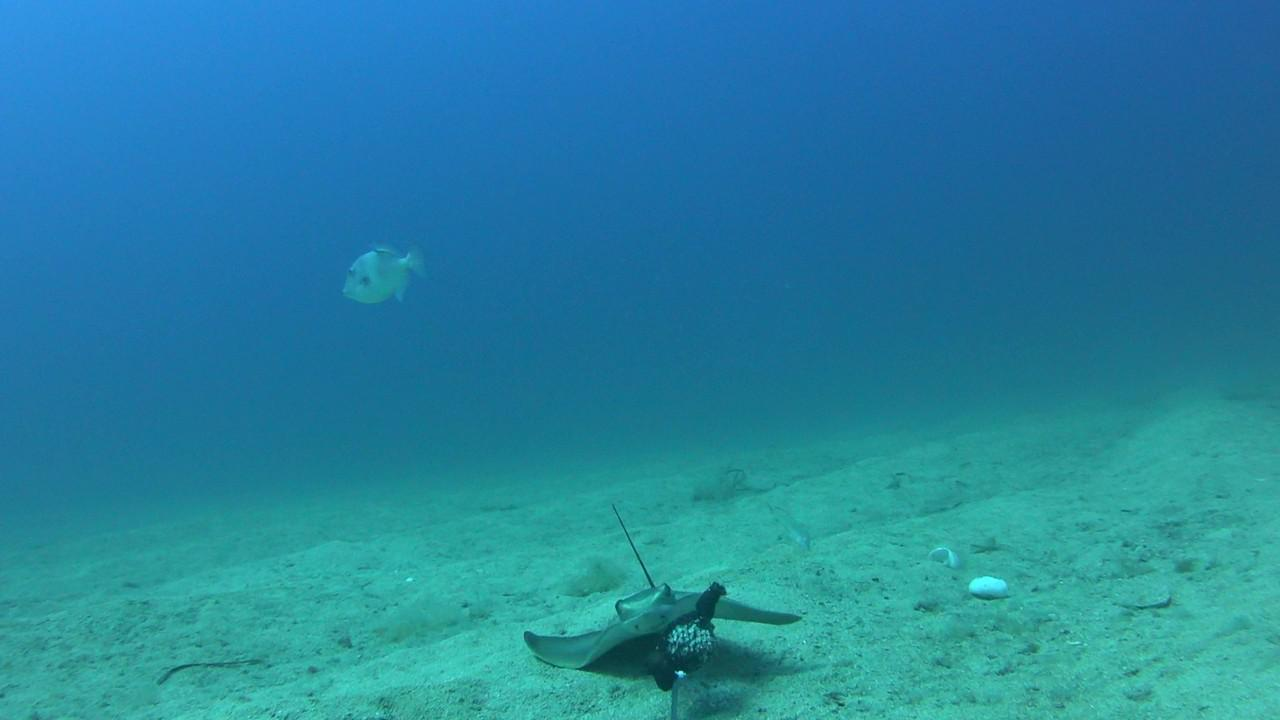balistes: (342, 232, 433, 308)
myliobatis: (469, 497, 807, 670)
